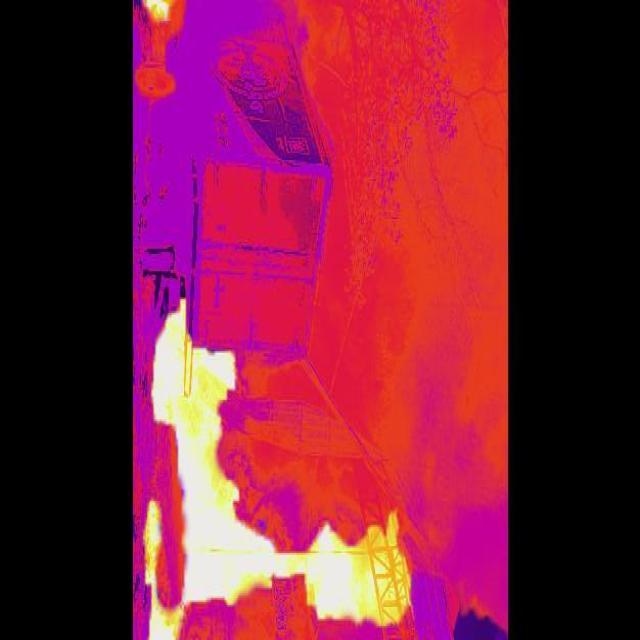fire: (134, 295, 412, 640), (298, 450, 428, 640), (134, 1, 187, 25)
